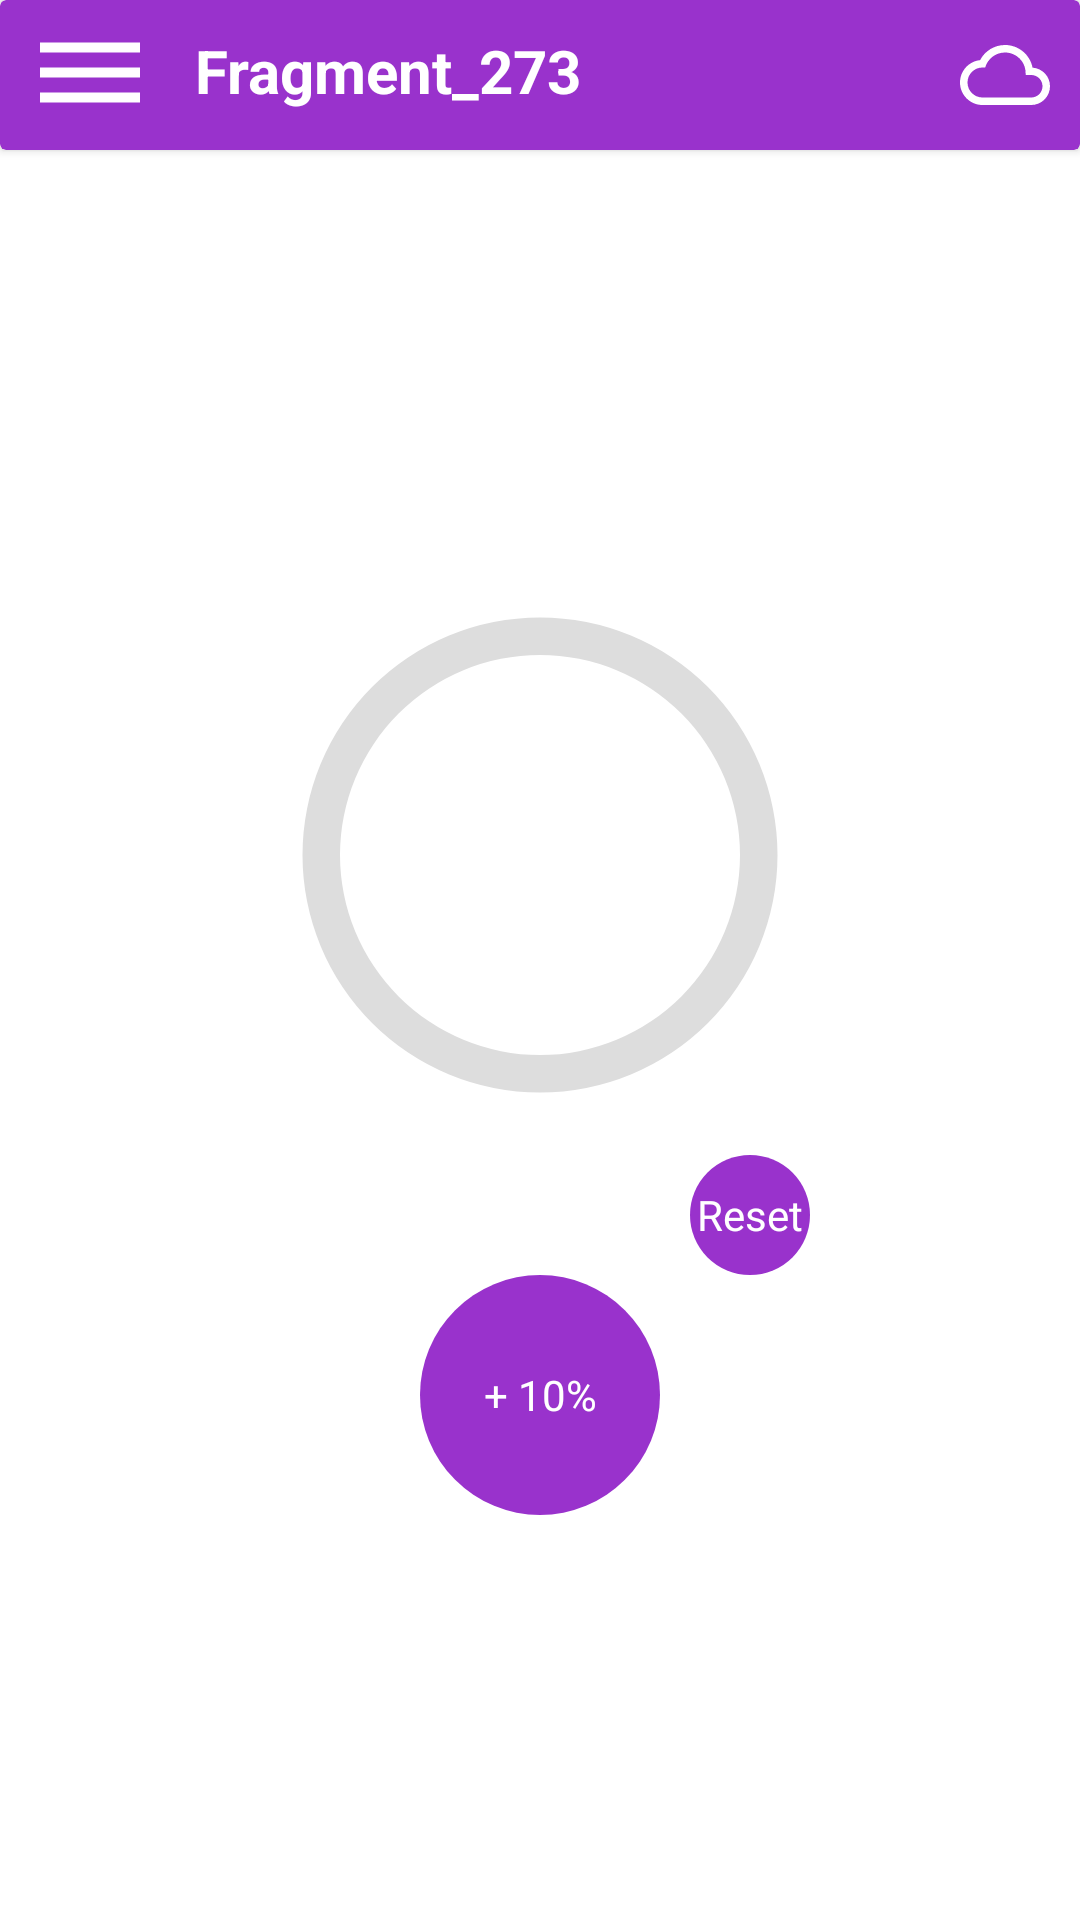

Locate icon controls on the screen. Image size 1080w x 1920h, boxes as detection(x1, y1, x2, y2).
dehaze: detection(40, 42, 140, 103)
